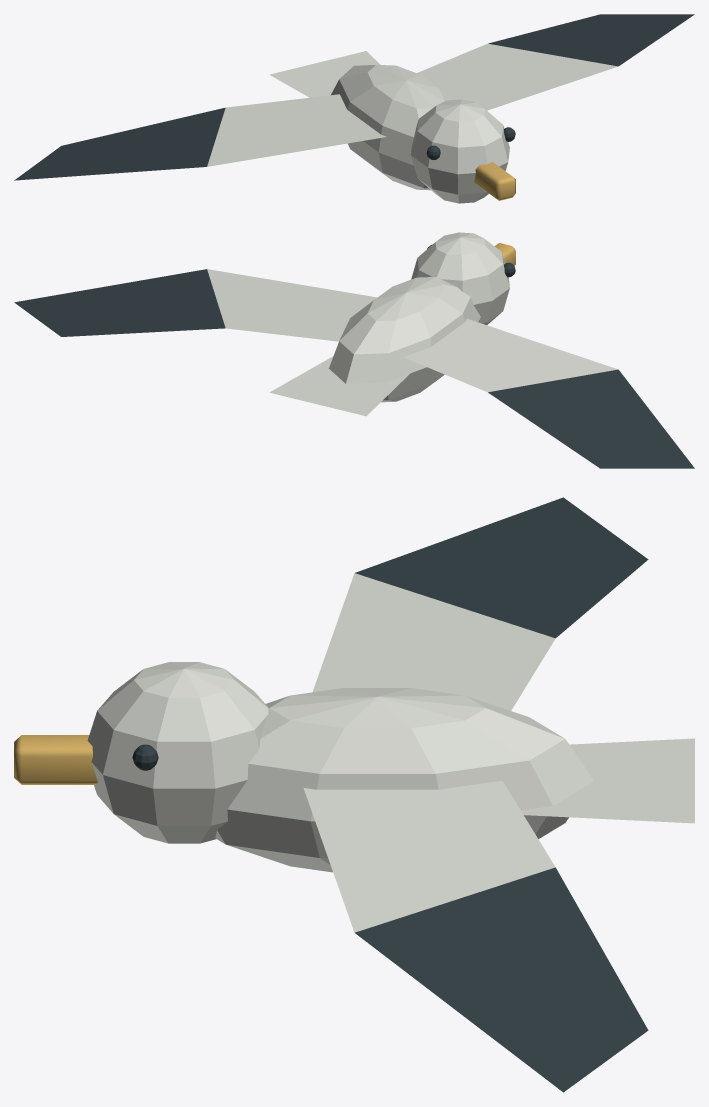
The model's file is CoastalGull.glb.
The picture shows the model from 3 angles, top to bottom: view 1: azimuth 30°, elevation 25°; view 2: azimuth 150°, elevation 25°; view 3: azimuth 270°, elevation 25°; orthographic projection. The views are drawn at different scales.
Parts seen in each view (by area): view 1: Gull body, Left flight feathers, Left black feather tips, Gull head, Right flight feathers, Right black feather tips, Tail feathers, Beak; view 2: Left black feather tips, Gull body, Right black feather tips, Left flight feathers, Right flight feathers, Gull head, Tail feathers; view 3: Gull body, Right black feather tips, Right flight feathers, Gull head, Left black feather tips, Left flight feathers, Tail feathers, Beak.
Part boxes in pixels (<box>): Gull body: <box>331,64,453,190</box>; Left flight feathers: <box>207,94,386,166</box>; Left black feather tips: <box>14,107,225,180</box>; Gull head: <box>410,99,509,203</box>; Right flight feathers: <box>417,43,618,110</box>; Right black feather tips: <box>488,14,694,66</box>; Tail feathers: <box>269,51,380,97</box>; Beak: <box>474,162,515,200</box>; Left black feather tips: <box>488,369,694,468</box>; Gull body: <box>329,277,480,402</box>; Right black feather tips: <box>14,269,225,336</box>; Left flight feathers: <box>403,318,618,392</box>; Right flight feathers: <box>207,269,377,341</box>; Gull head: <box>411,232,509,324</box>; Tail feathers: <box>269,356,409,416</box>; Gull body: <box>215,688,593,872</box>; Right black feather tips: <box>355,867,648,1092</box>; Right flight feathers: <box>303,780,555,932</box>; Gull head: <box>87,662,268,843</box>; Left black feather tips: <box>355,497,648,638</box>; Left flight feathers: <box>312,573,555,710</box>; Tail feathers: <box>521,738,694,823</box>; Beak: <box>14,735,97,784</box>.
Bounding box in the file's own units: 1.82 × 0.28 × 0.88.
